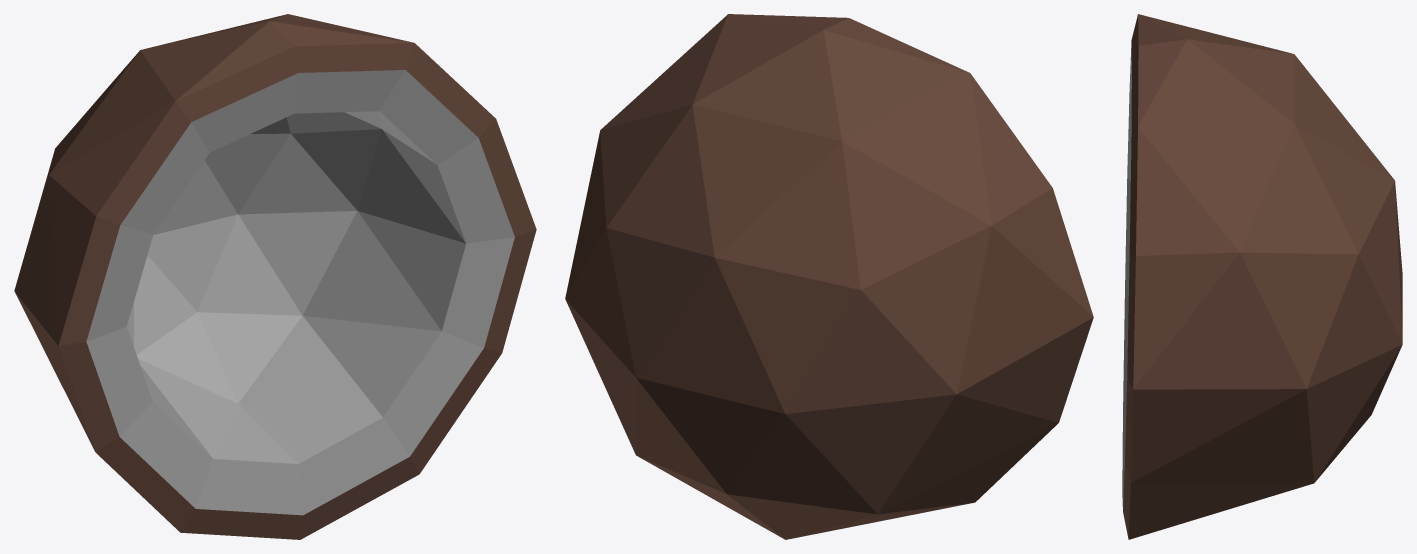
Rendered from coconut_half.gltf.
3 views of the same model, side by side, from view 1: azimuth 30°, elevation 25°; view 2: azimuth 150°, elevation 25°; view 3: azimuth 270°, elevation 25° (orthographic). The views are drawn at different scales.
Parts seen in each view (by area): view 1: coconut_half; view 2: coconut_half; view 3: coconut_half.
Part boxes in pixels (x1,y1,x2,y2): coconut_half: [14, 14, 536, 539]; coconut_half: [565, 14, 1093, 539]; coconut_half: [1122, 14, 1402, 539].
Bounding box in the file's own units: 0.7836 × 0.7769 × 0.412.
1 material, 1 textured.
